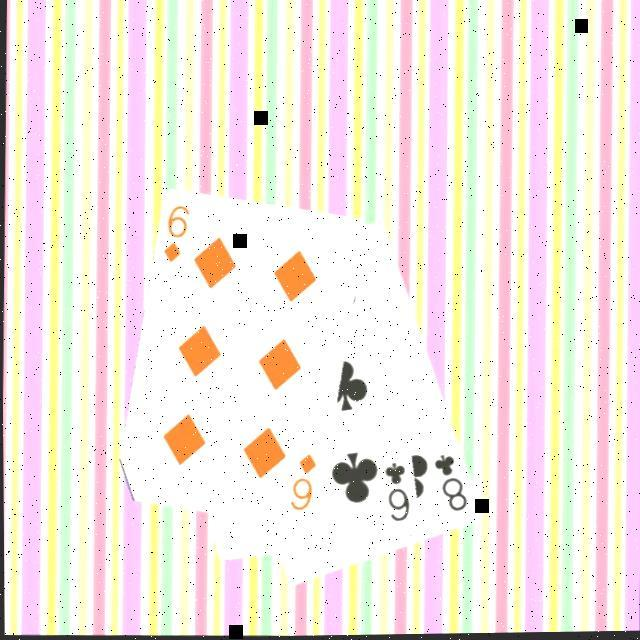6C: (381, 461, 414, 527)
6D: (286, 451, 319, 516), (160, 202, 193, 267)
8C: (430, 452, 471, 517)
